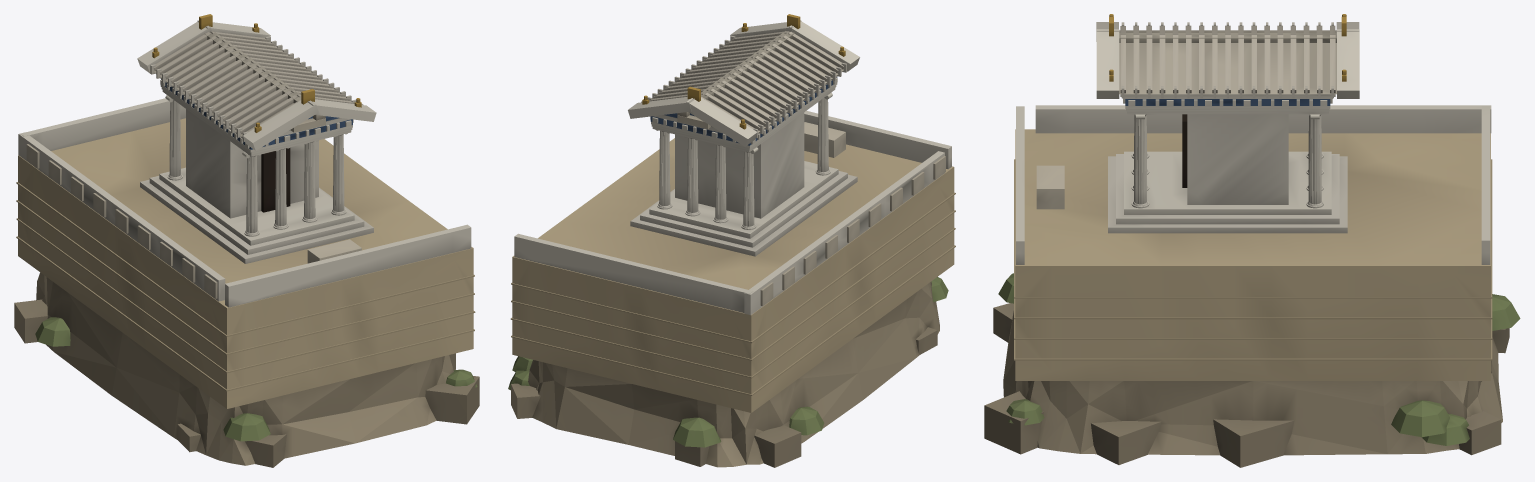
The model's file is nike.glb.
The picture shows the model from 3 angles, left to right: view 1: azimuth 30°, elevation 25°; view 2: azimuth 150°, elevation 25°; view 3: azimuth 270°, elevation 25°; orthographic projection. The views are drawn at different scales.
Parts seen in each view (by area): view 1: p0_bastion, p1_temple, p2_roof; view 2: p0_bastion, p1_temple, p2_roof; view 3: p0_bastion, p1_temple, p2_roof.
Boxes of the visible parts, box(x1,y1,x2,y2) form: p0_bastion: box(14, 118, 479, 467); p1_temple: box(18, 95, 471, 307); p2_roof: box(137, 14, 376, 263); p0_bastion: box(508, 138, 955, 467); p1_temple: box(514, 92, 951, 315); p2_roof: box(628, 14, 859, 157); p0_bastion: box(984, 129, 1520, 467); p1_temple: box(1016, 105, 1491, 264); p2_roof: box(1036, 14, 1359, 209).
Size of the model in its own units: 15.87 by 15.76 by 21.18.
